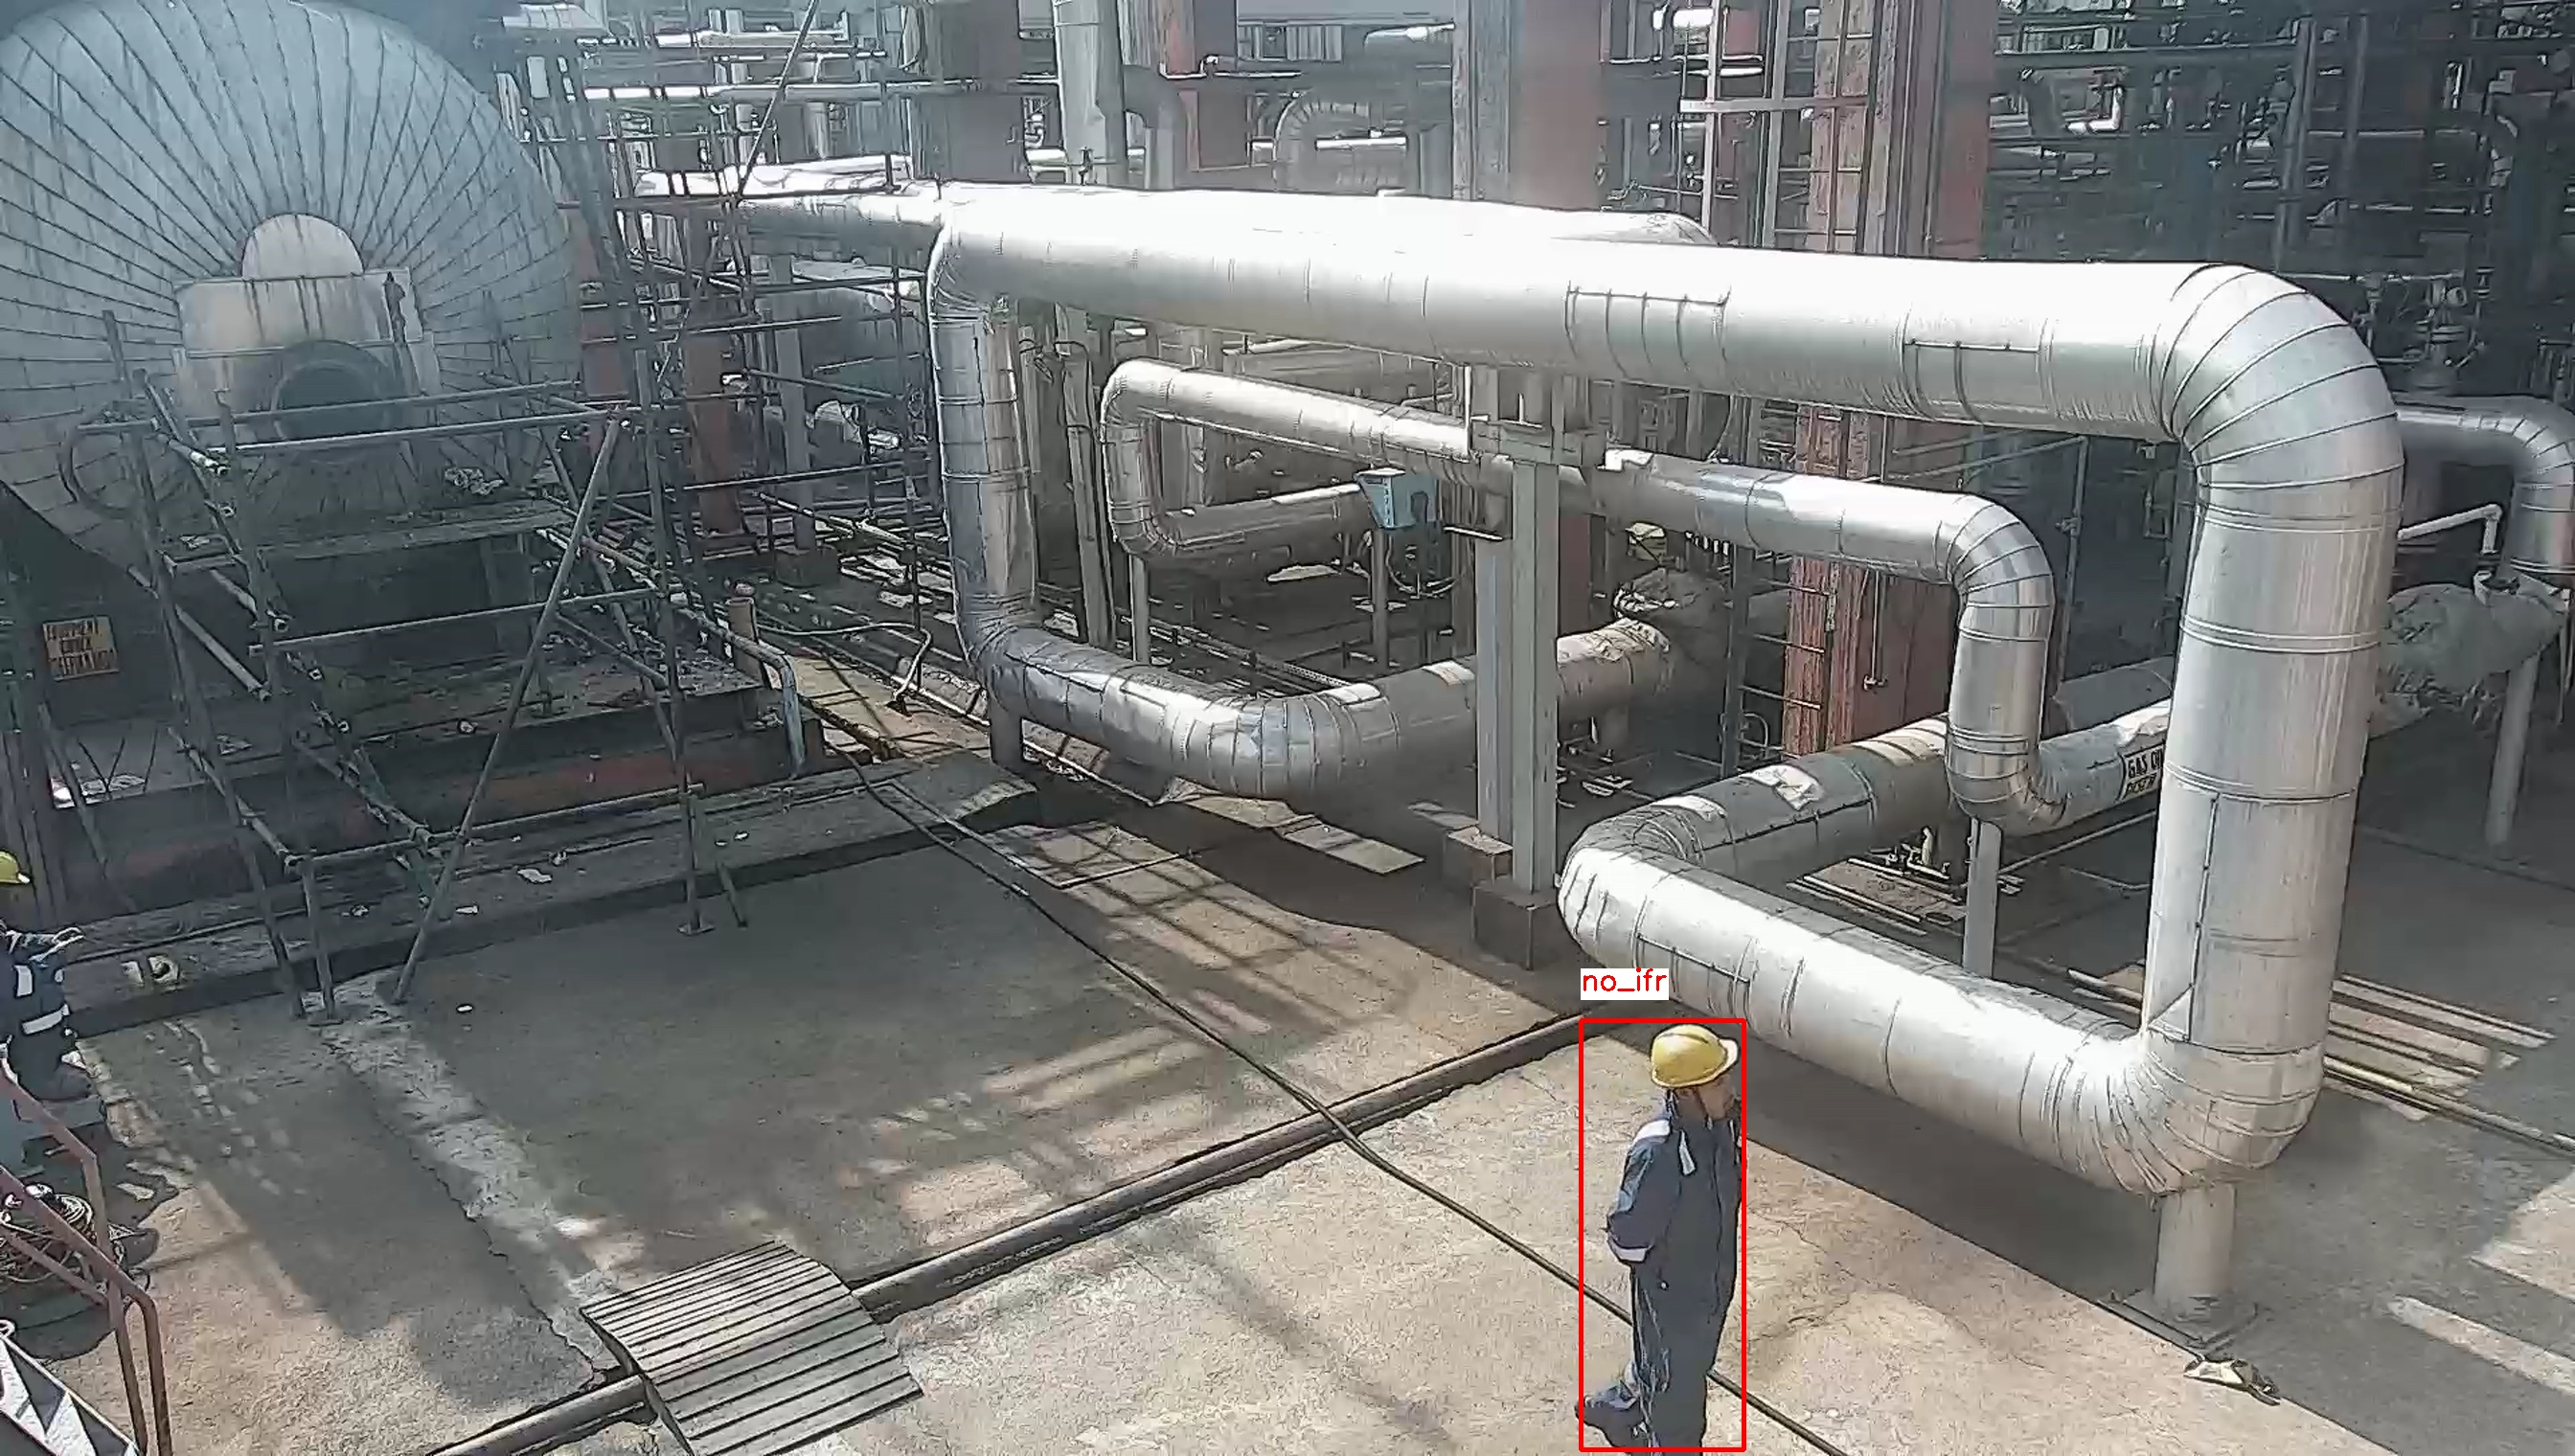Helmets: (1650, 1026, 1742, 1095)
